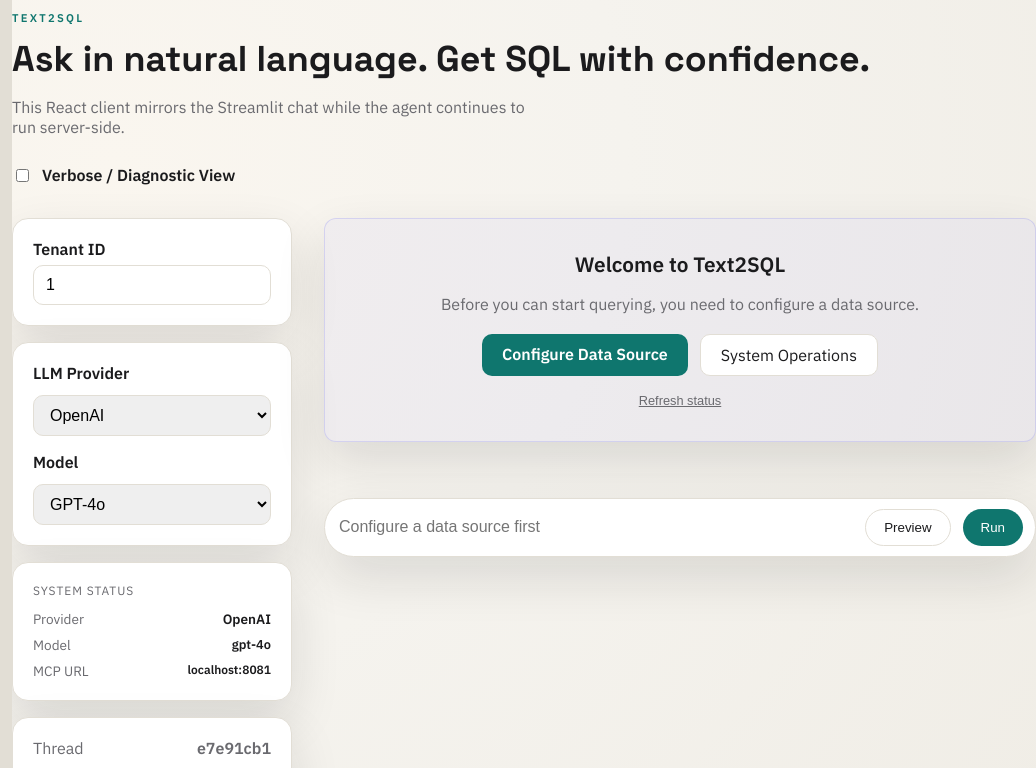
Scenario: AgentChat onboarding › shows refresh button that re-checks config
Expected: the element with test id "onboarding-panel" is shown, [324,218,1035,442]
Step 1. Click the button with test id "refresh-config-button" → x=680, y=400, box [633,392,727,409]
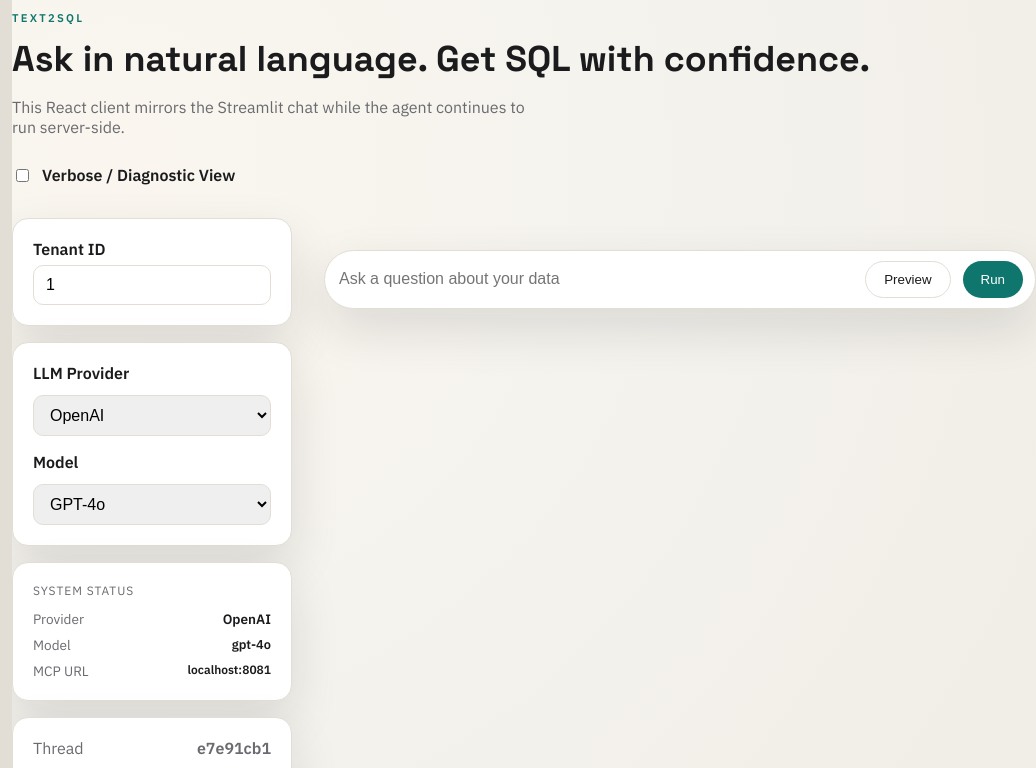
Expected: the element with test id "onboarding-panel" is gone
